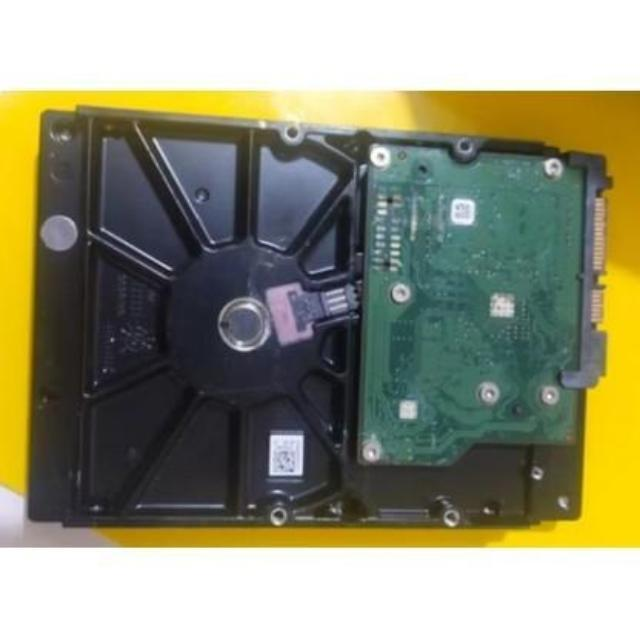DISK: (24, 100, 618, 542)
